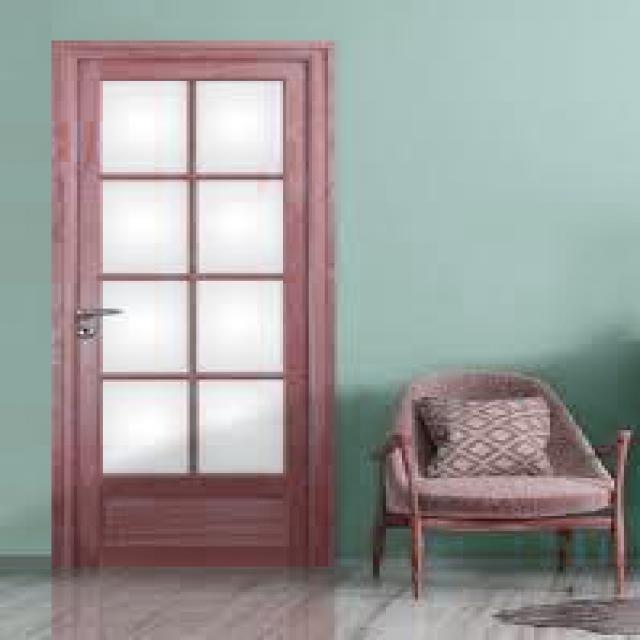door: (52, 39, 331, 570)
